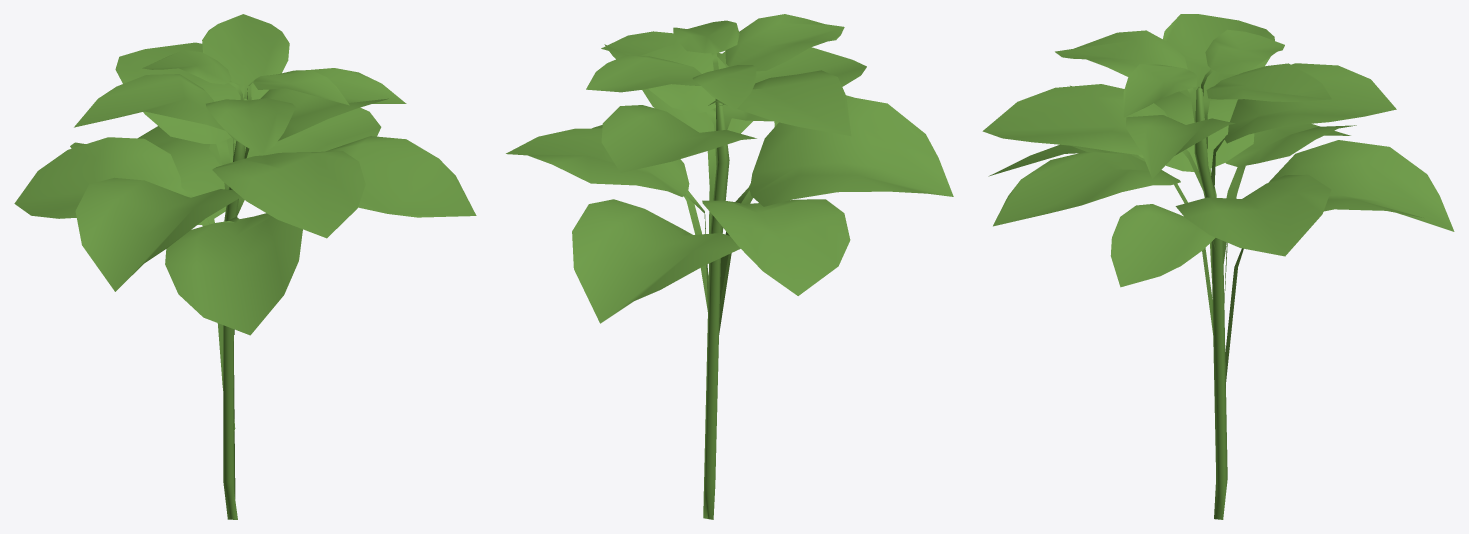
3 renders of one model, left to right at view 1: azimuth 30°, elevation 25°; view 2: azimuth 150°, elevation 25°; view 3: azimuth 270°, elevation 25°, orthographic.
Parts seen in each view (by area): view 1: BasilPlant; view 2: BasilPlant; view 3: BasilPlant.
Part boxes in pixels (<box>): BasilPlant: <box>14,14,476,519</box>; BasilPlant: <box>506,14,953,519</box>; BasilPlant: <box>982,14,1454,519</box>.
Bounding box in the file's own units: 0.2293 × 0.2863 × 0.2642.
1 material, 1 textured.
